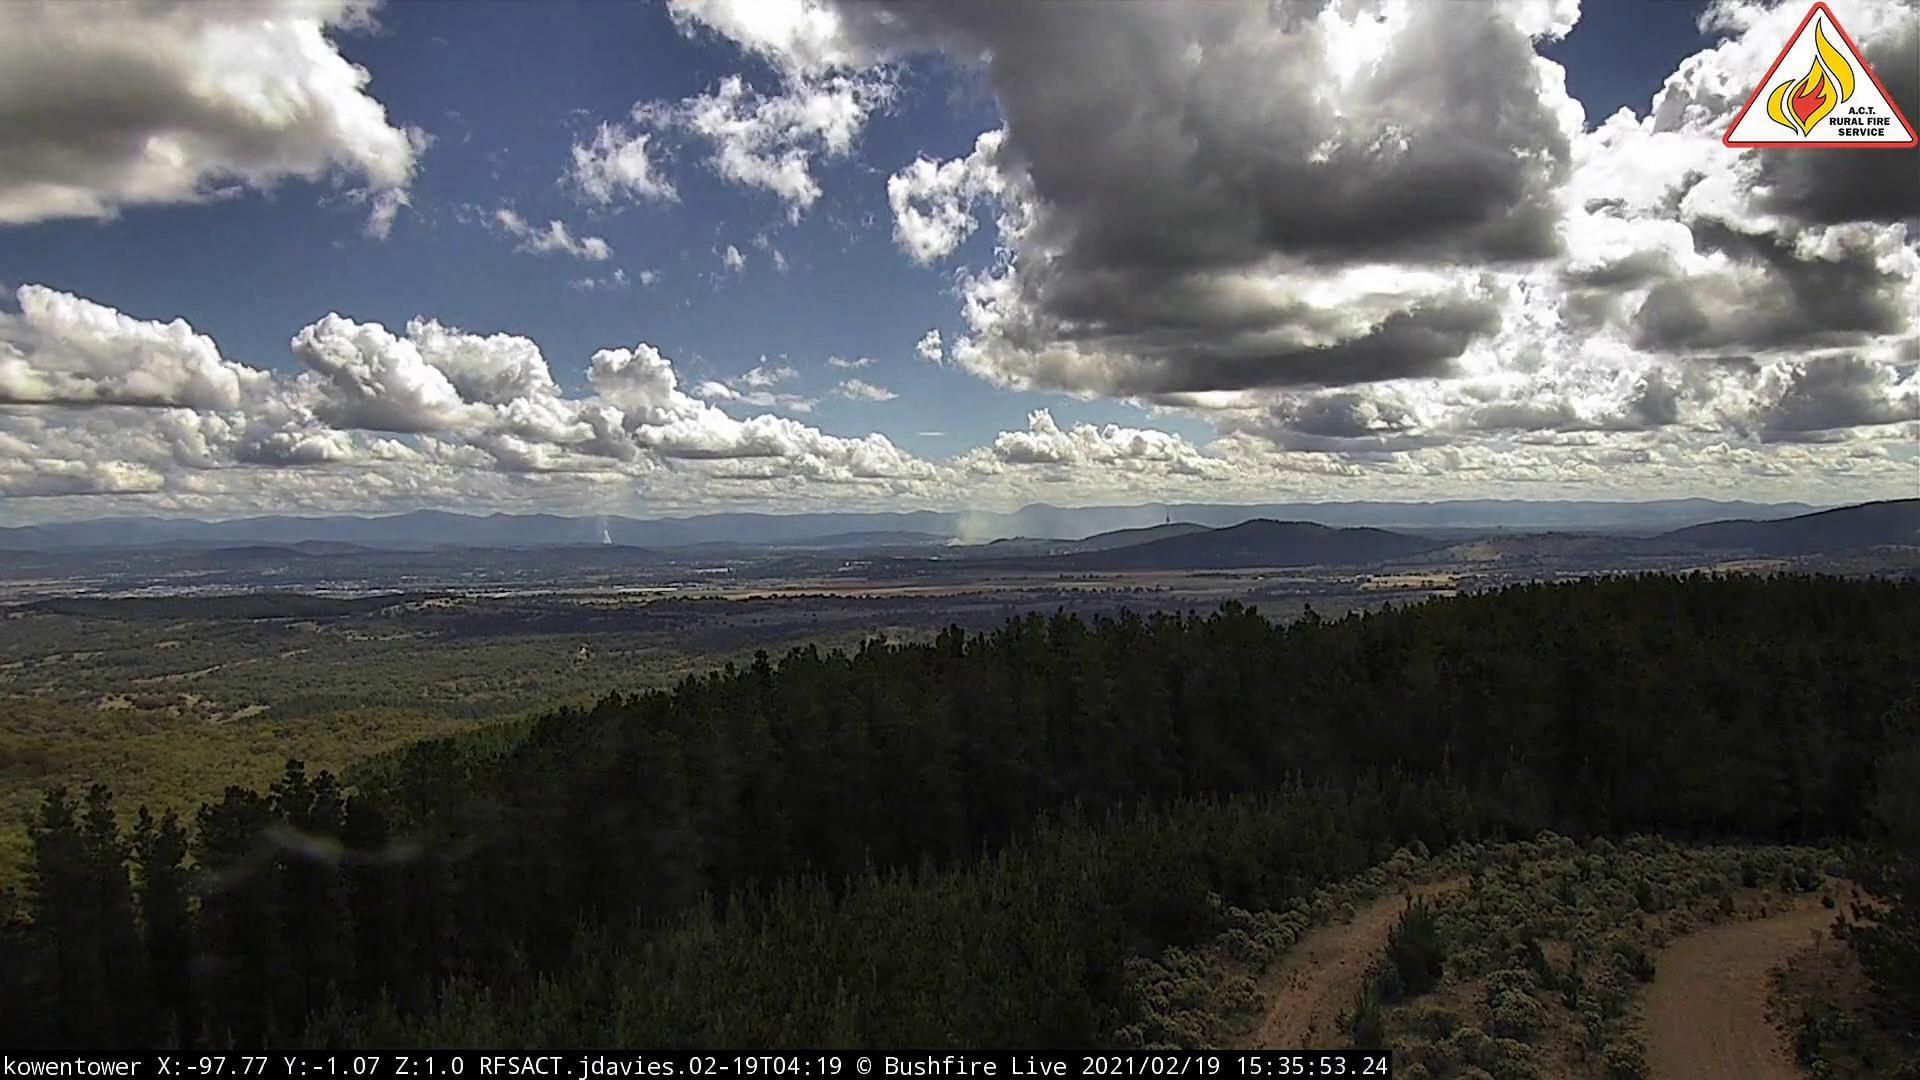Smoke: (945, 495, 1039, 551), (600, 526, 620, 554)
